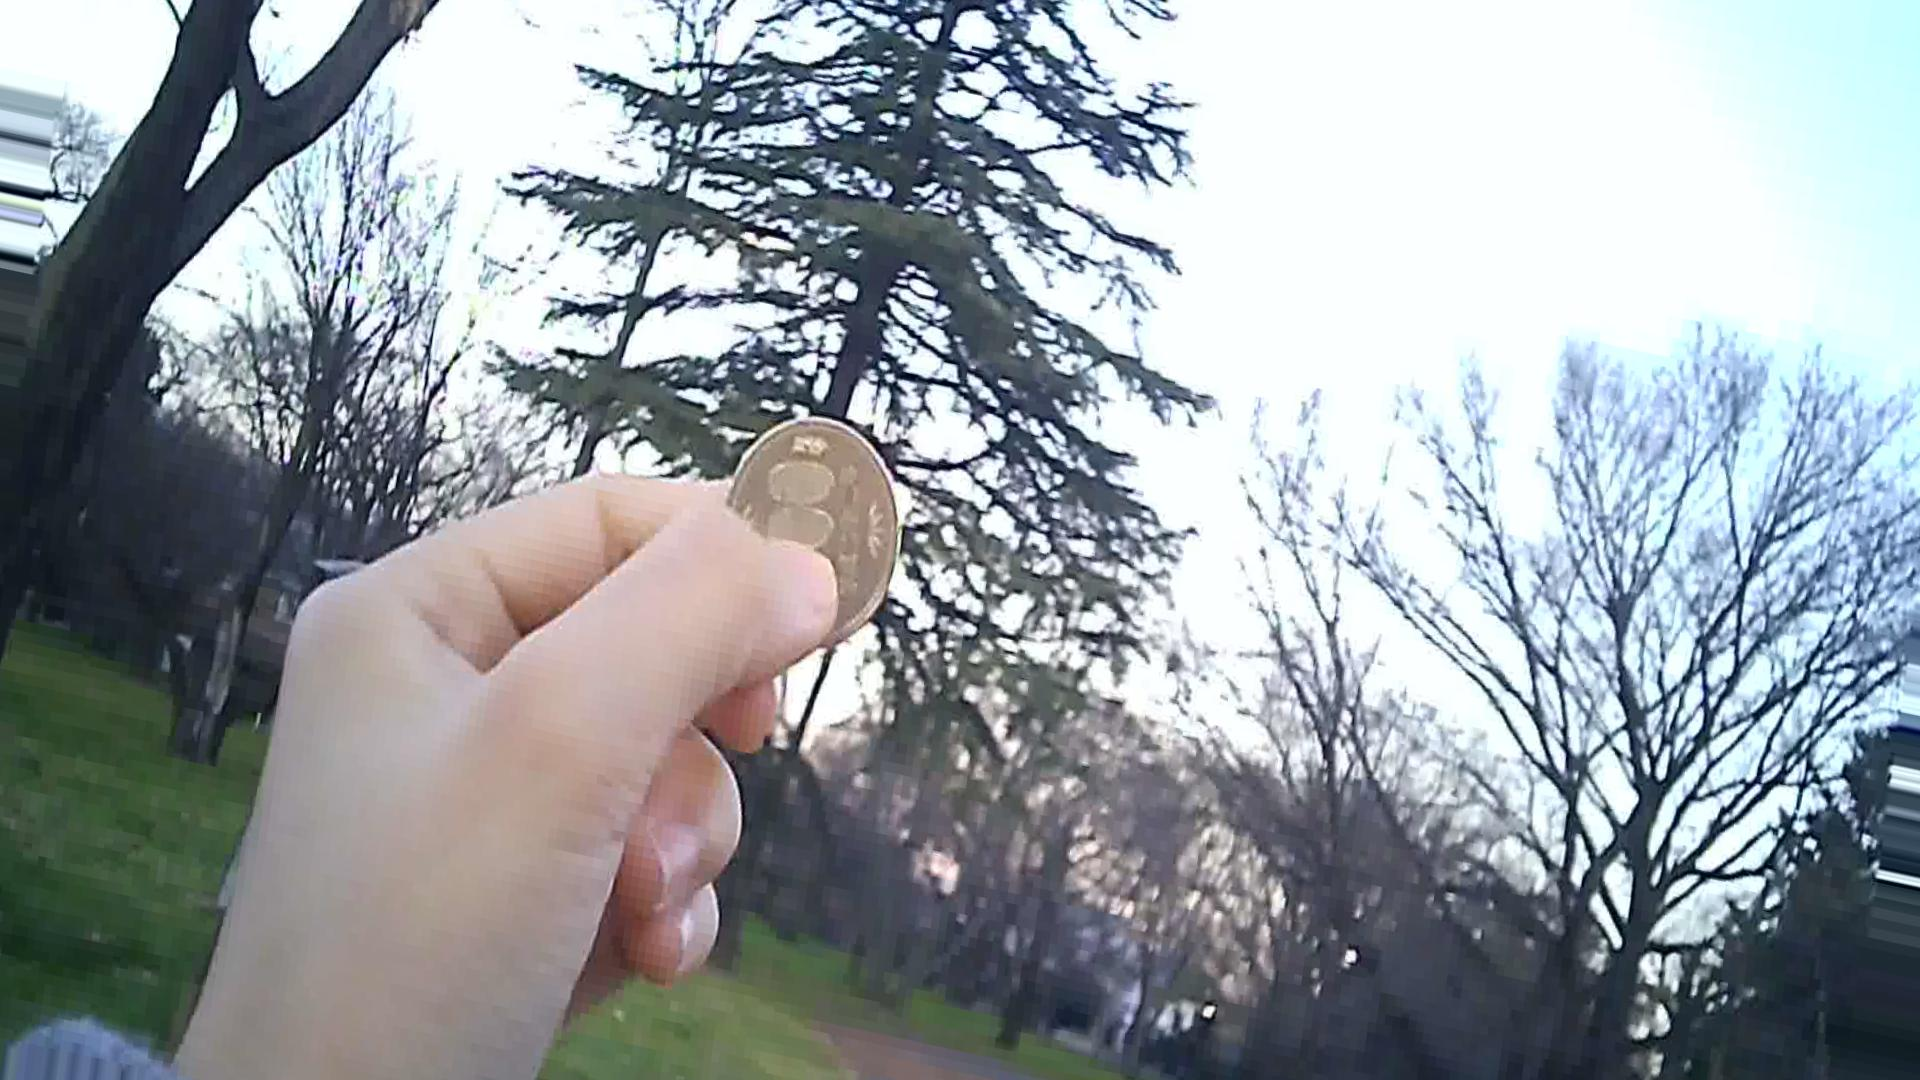500 Yen: (717, 419, 901, 659)
